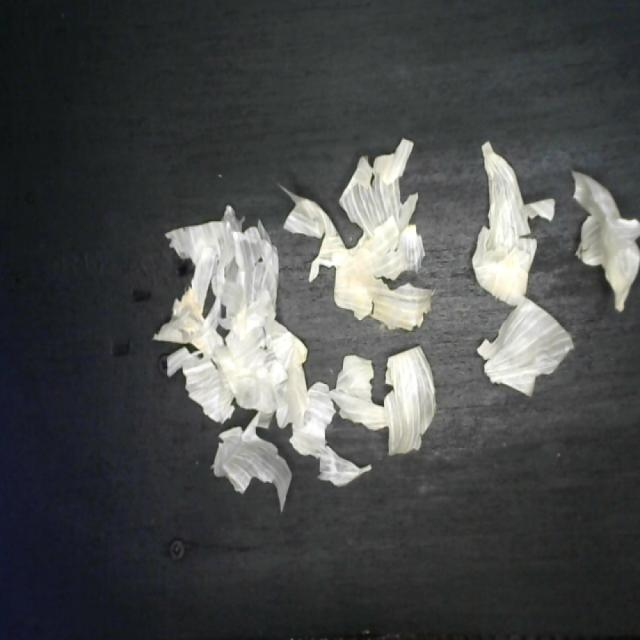biodegradable: (142, 126, 640, 522)
